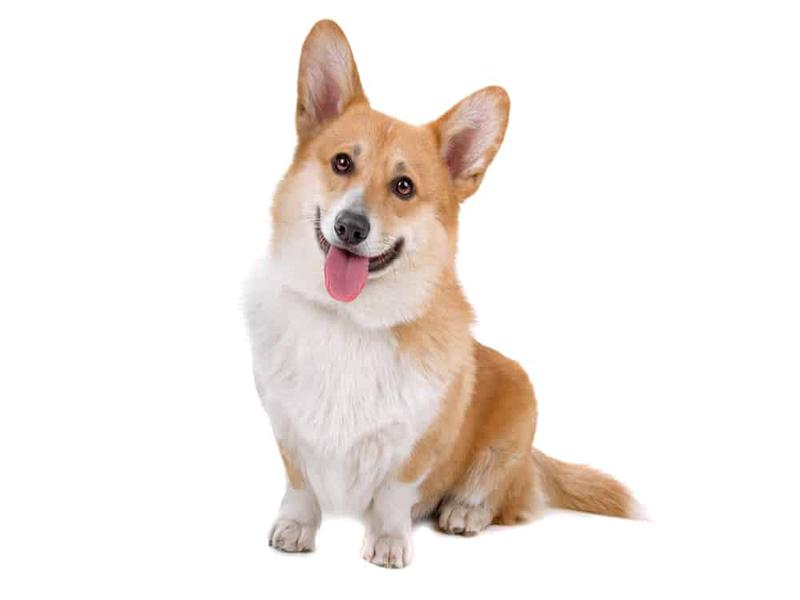corgi: (290, 16, 515, 306)
